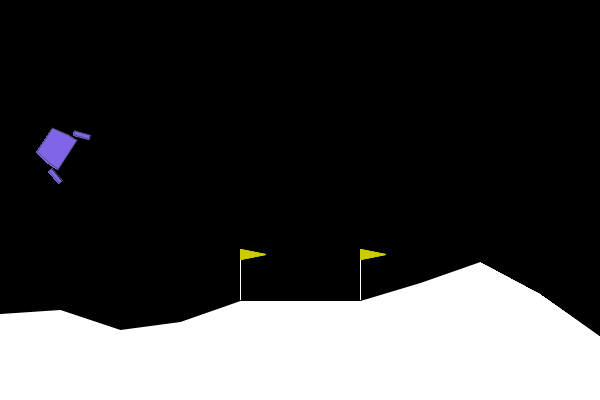lander: (26, 114, 92, 186)
